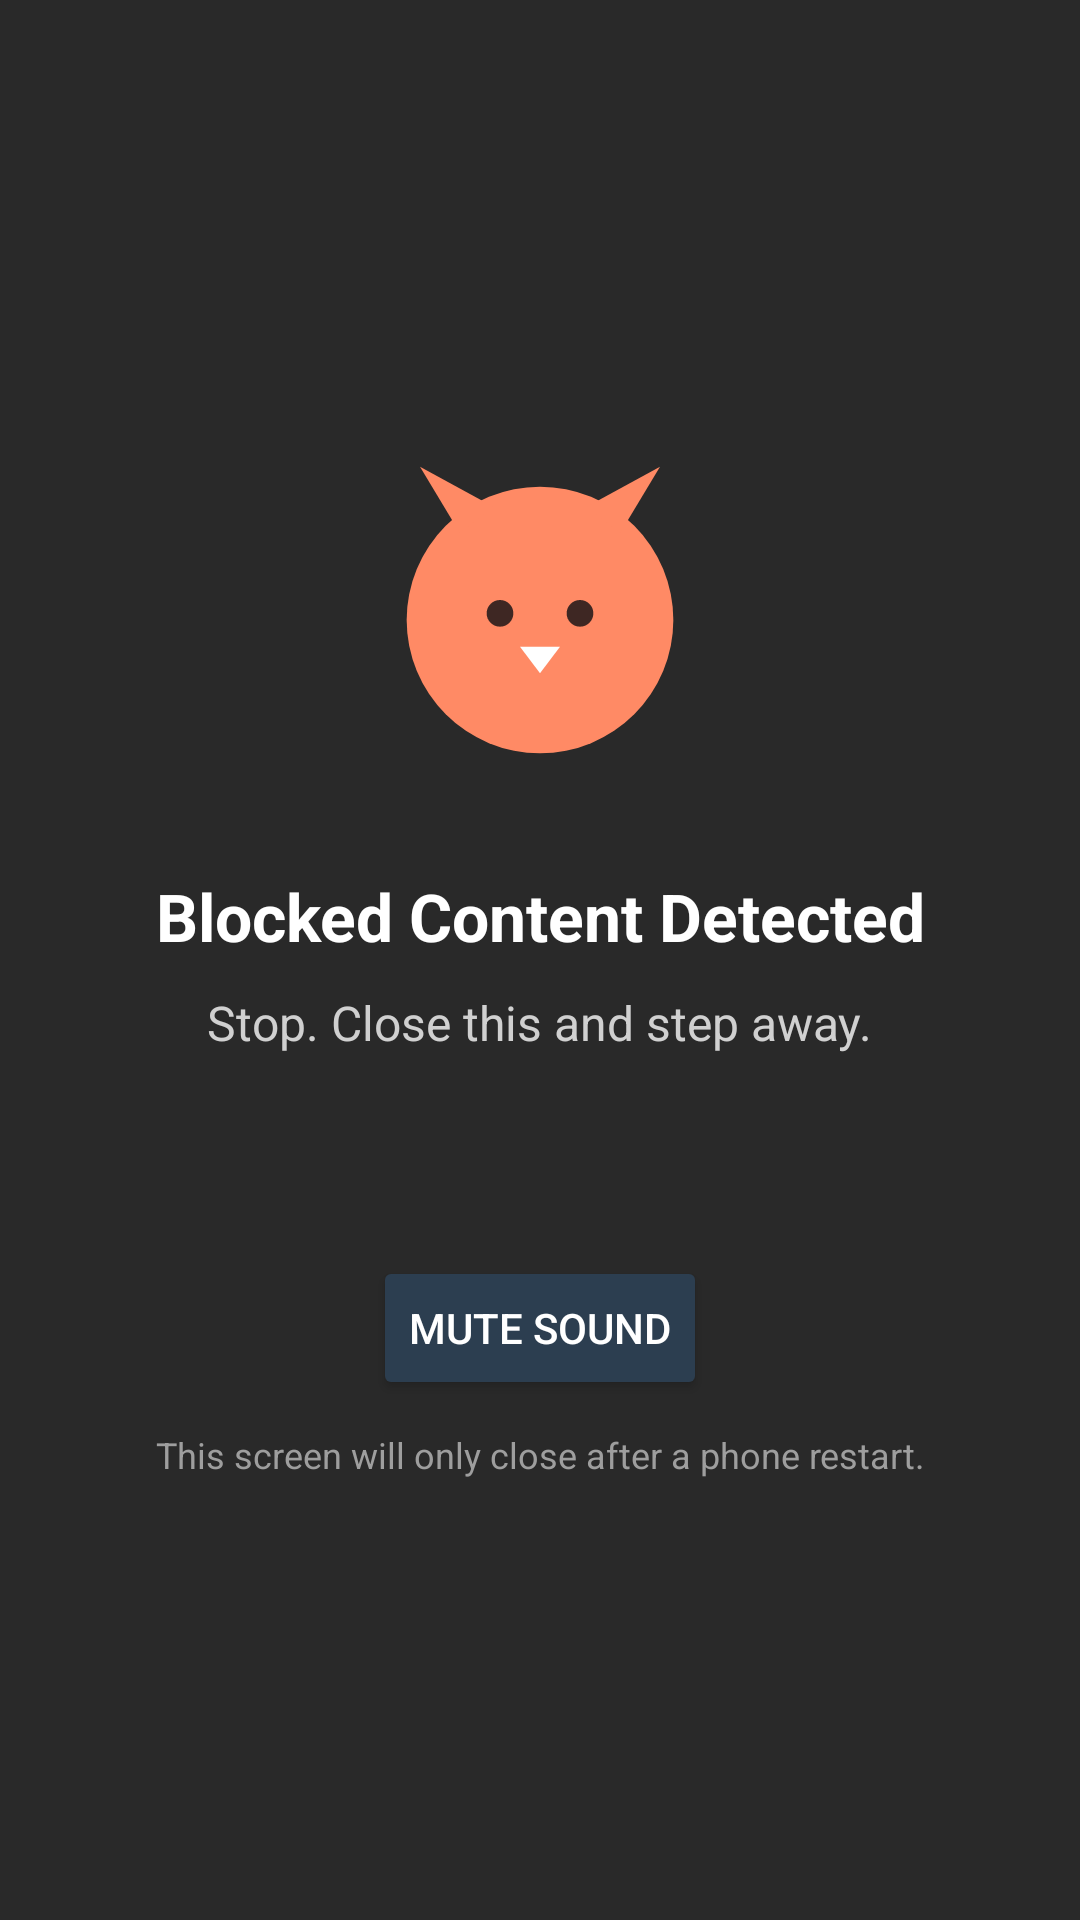

Screen size 1080w x 1920h. Icon name, then its box in pixels as (x1, y1, x2, y2):
cat: (406, 467, 674, 754)
